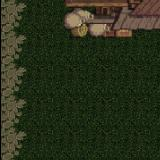Obstacle: (28, 0, 160, 75)
